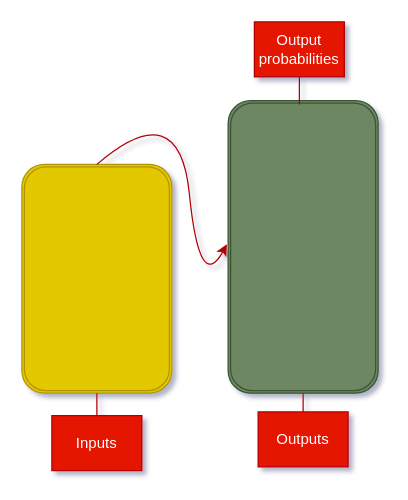
Some shapes in this 408 by 500 pixel diagram are drawn without their labels. The box of each missing label's shape, as (x1, y1, x2, y2) in pixels:
Decoder: (227, 99, 378, 393)
Encoder: (21, 163, 172, 393)
